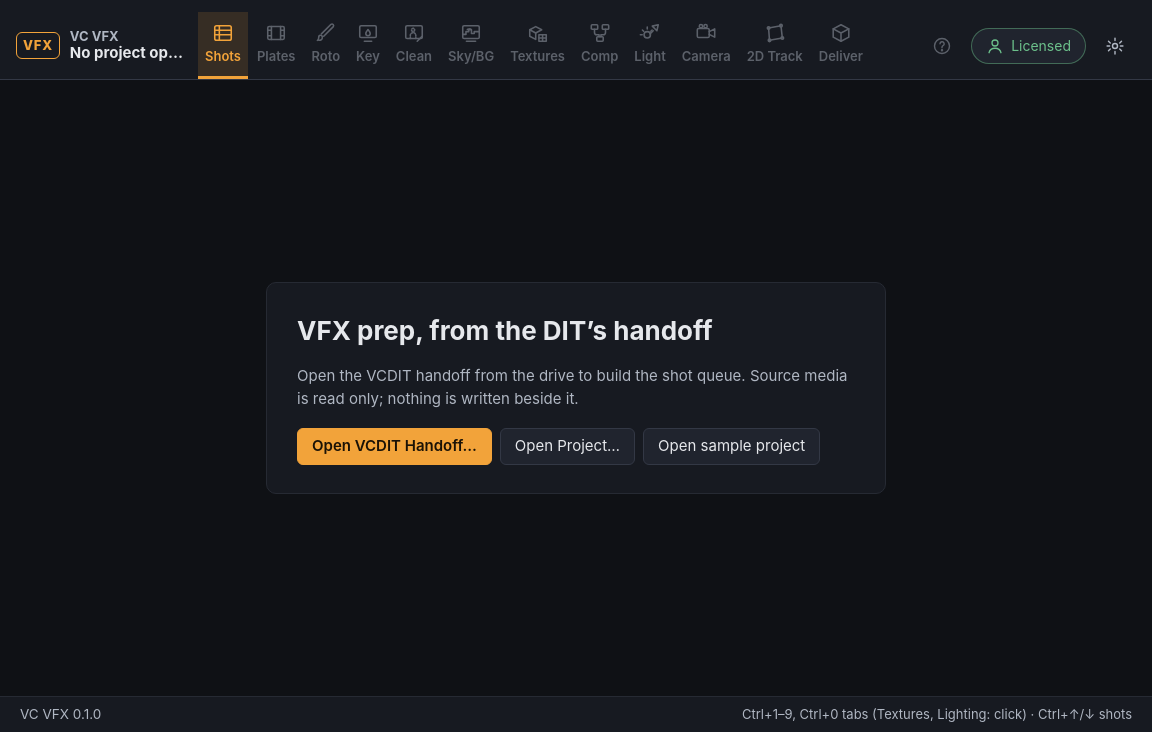
module tabs › lists every module in the top toolbar and switches between them
The image size is (1152, 732).
Click the button "Open sample project".
click(732, 447)  # box [643,428,820,465]
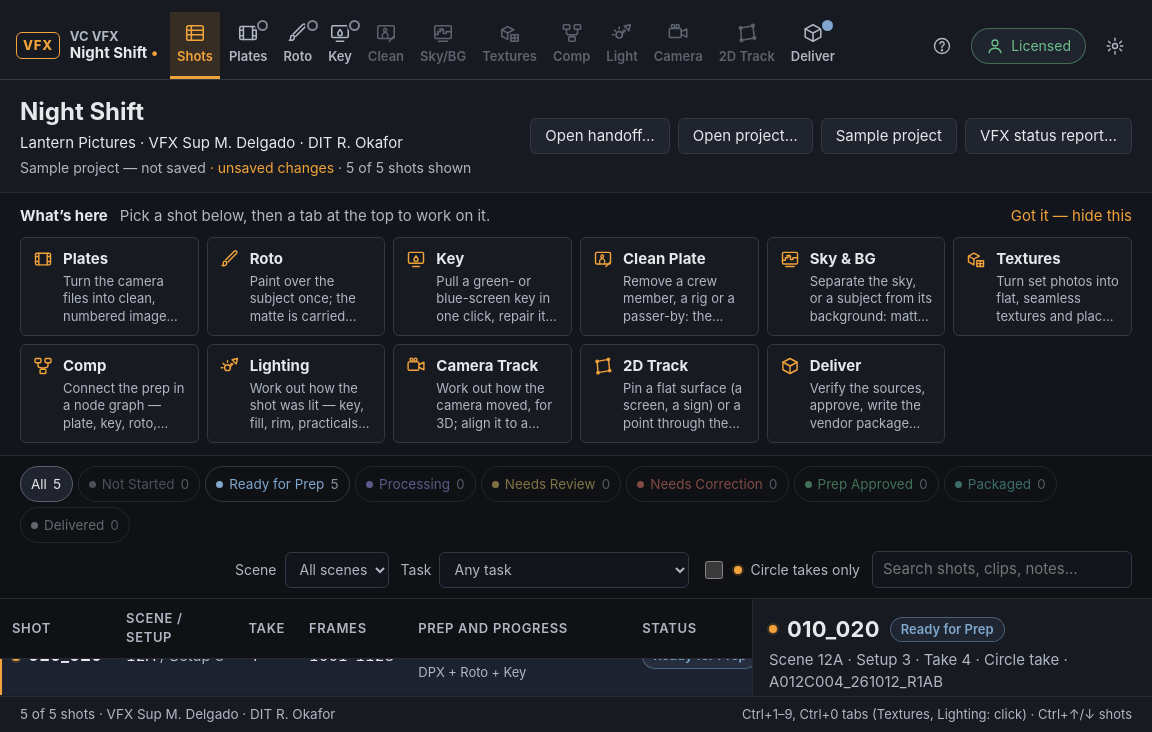
Click the tab "Plates".
click(248, 46)  # box [222,12,274,79]
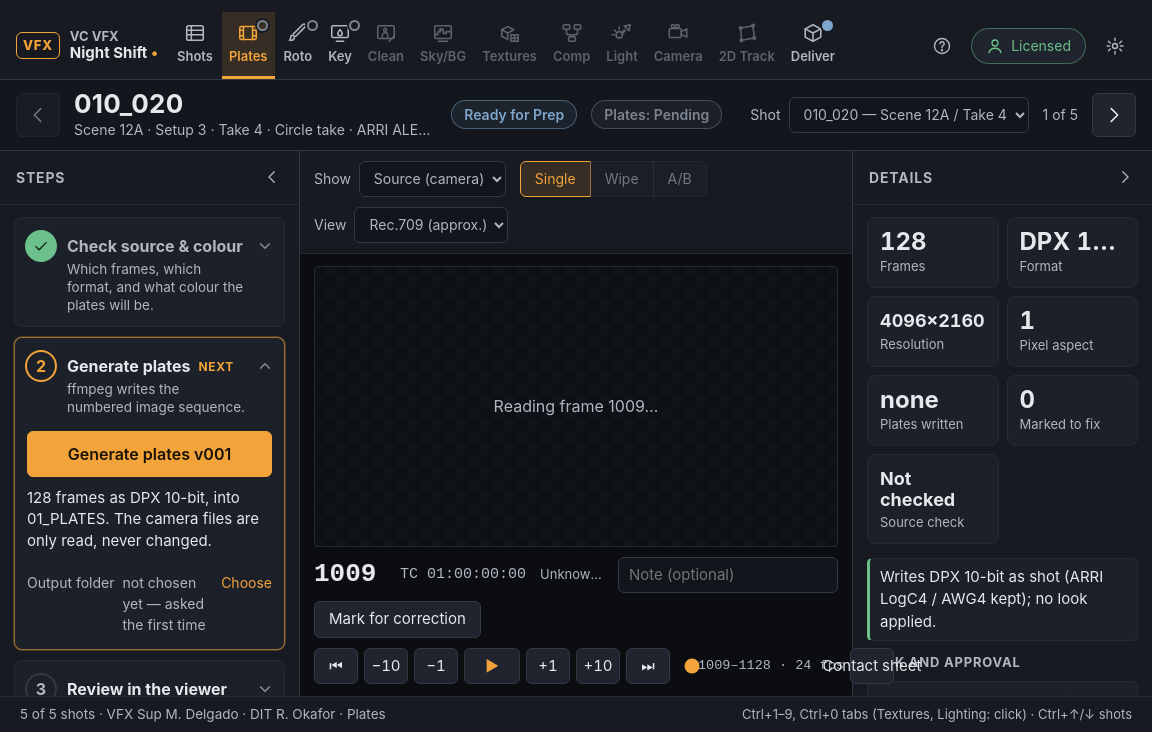
Expected: the table "Shot queue" is gone
Expected: the element named "Plates" is shown
Expected: the element named "Viewer — 010_020" is shown, [300,151,852,696]
Click the tab "Deliver".
click(813, 46)  # box [784,12,842,79]
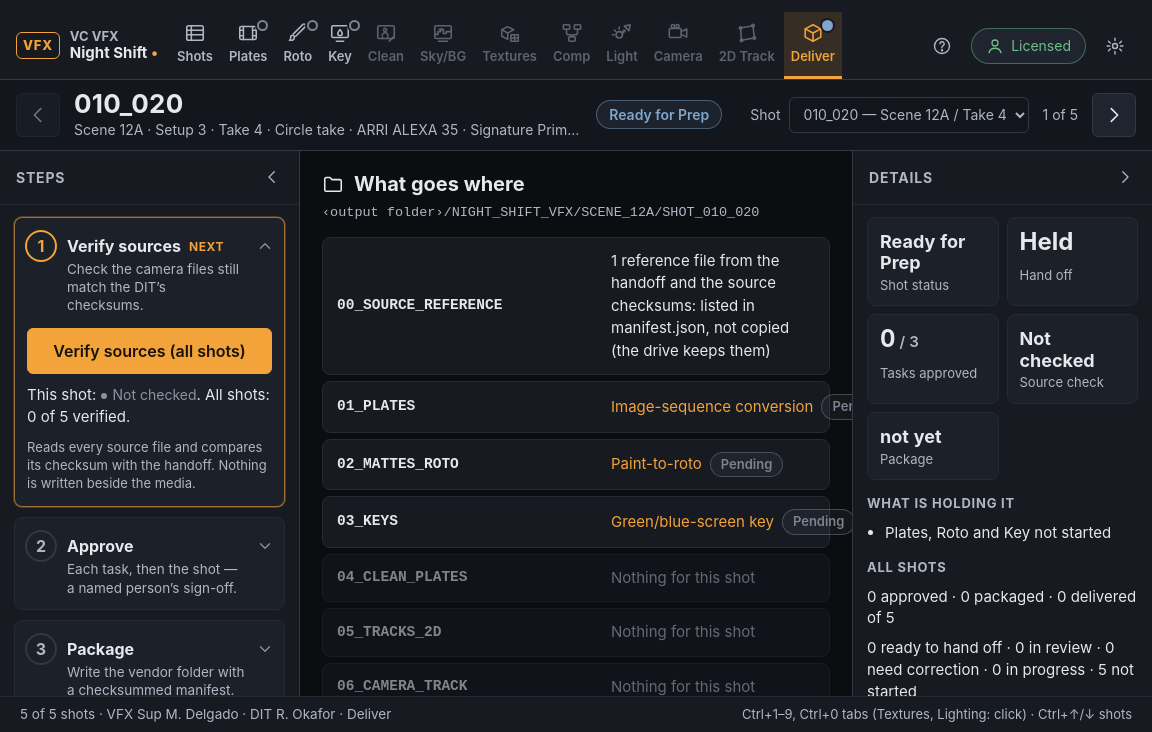
Expected: the element named "Deliver" is shown
Expected: the element named "Package contents" shows "02_MATTES_ROTO", [337,456,459,472]
